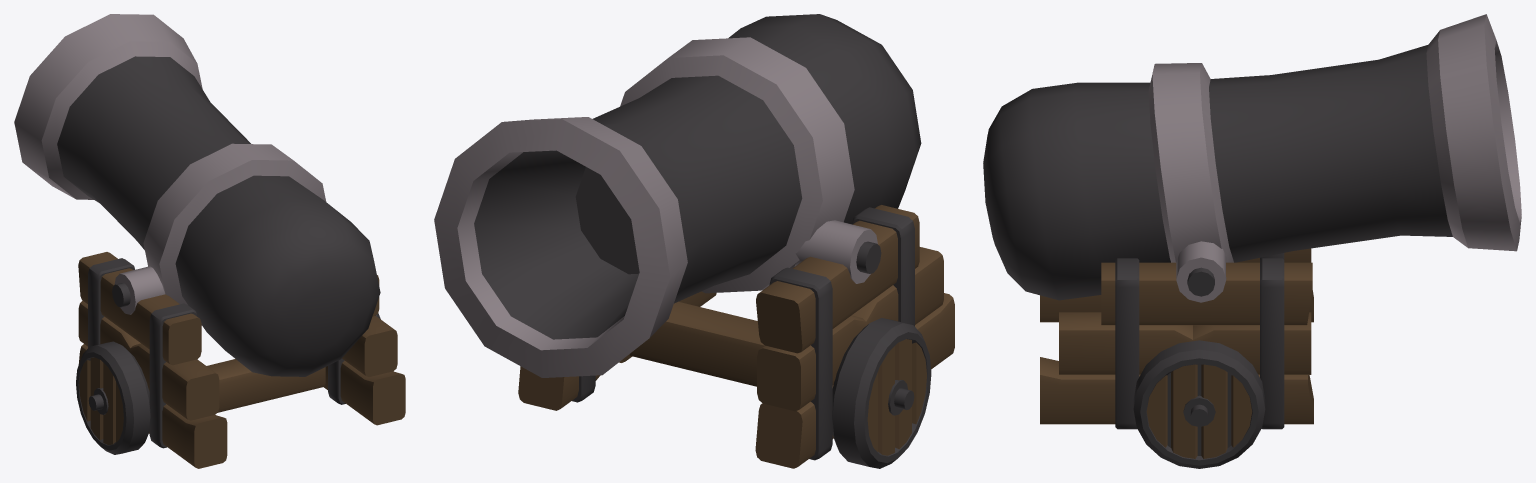
Rendered from cannon.glb.
3 renders of one model, left to right at view 1: azimuth 30°, elevation 25°; view 2: azimuth 150°, elevation 25°; view 3: azimuth 270°, elevation 25°, orthographic. The views are drawn at different scales.
Visible parts, largest first — view 1: Prop_Cannon; view 2: Prop_Cannon; view 3: Prop_Cannon.
Part boxes in pixels (x1,y1,x2,y2): Prop_Cannon: (14, 14, 405, 468); Prop_Cannon: (434, 14, 954, 468); Prop_Cannon: (983, 14, 1521, 468).
Bounding box in the file's own units: 1.54 × 1.68 × 2.2.
Materials: 1 (1 with a texture image).
